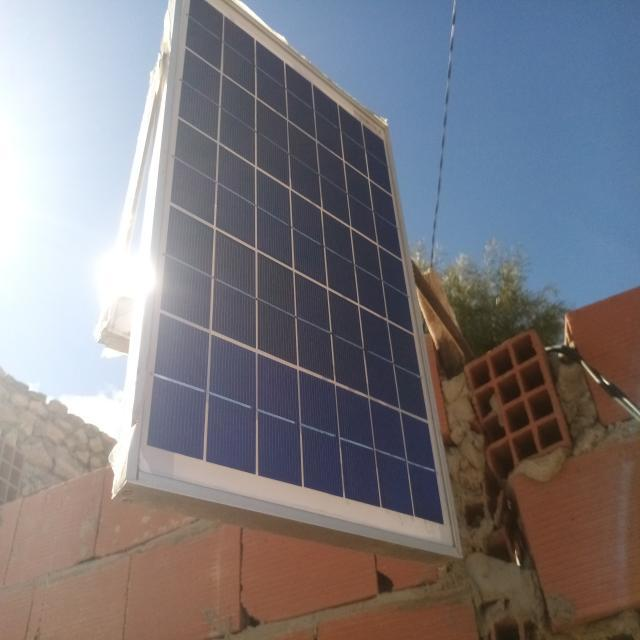no faulty: (122, 0, 458, 556)
